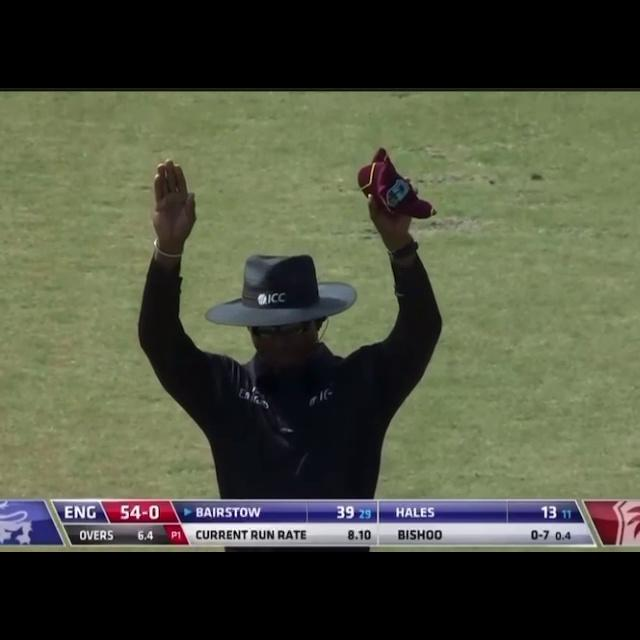umpire: (129, 132, 439, 496)
